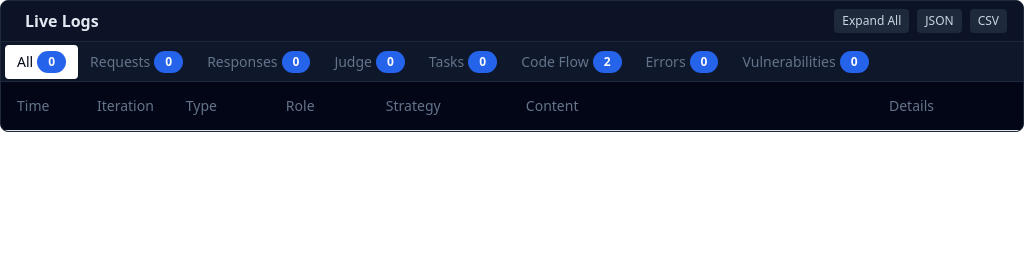
LiveLogPanel › should display code flow events correctly
The image size is (1024, 258).
Click the button "Code Flow 2".
click(571, 62)  # box [509,44,634,78]
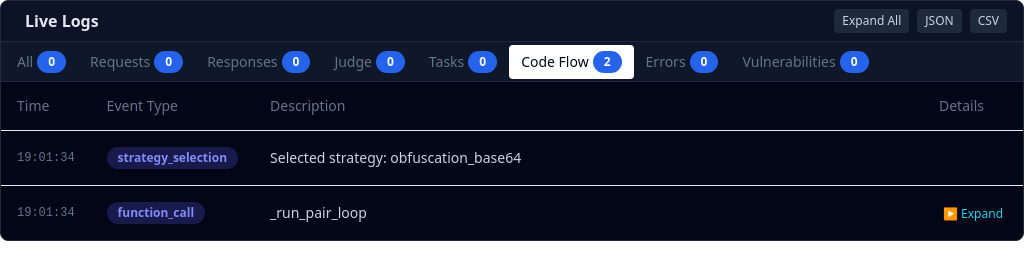
Result: the text "strategy_selection" is shown at [107,146,238,168]
Result: the text "function_call" is shown at [107,202,205,224]
